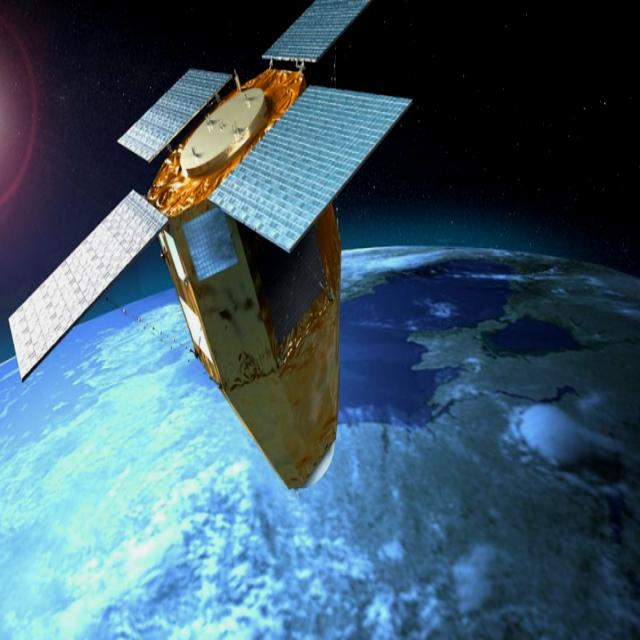medium_debris: (5, 0, 415, 502)
